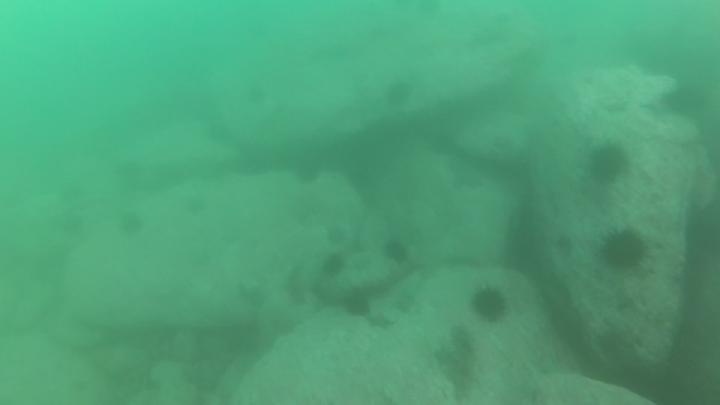echinus: (598, 225, 650, 272), (584, 140, 631, 186), (661, 81, 711, 122), (468, 283, 511, 325), (382, 78, 416, 111), (340, 288, 373, 320), (291, 156, 325, 187), (380, 236, 412, 267), (116, 209, 147, 239), (319, 251, 348, 279), (181, 192, 211, 219), (109, 163, 139, 190), (323, 222, 349, 248)
starfish: (638, 95, 676, 123), (363, 308, 397, 332)
